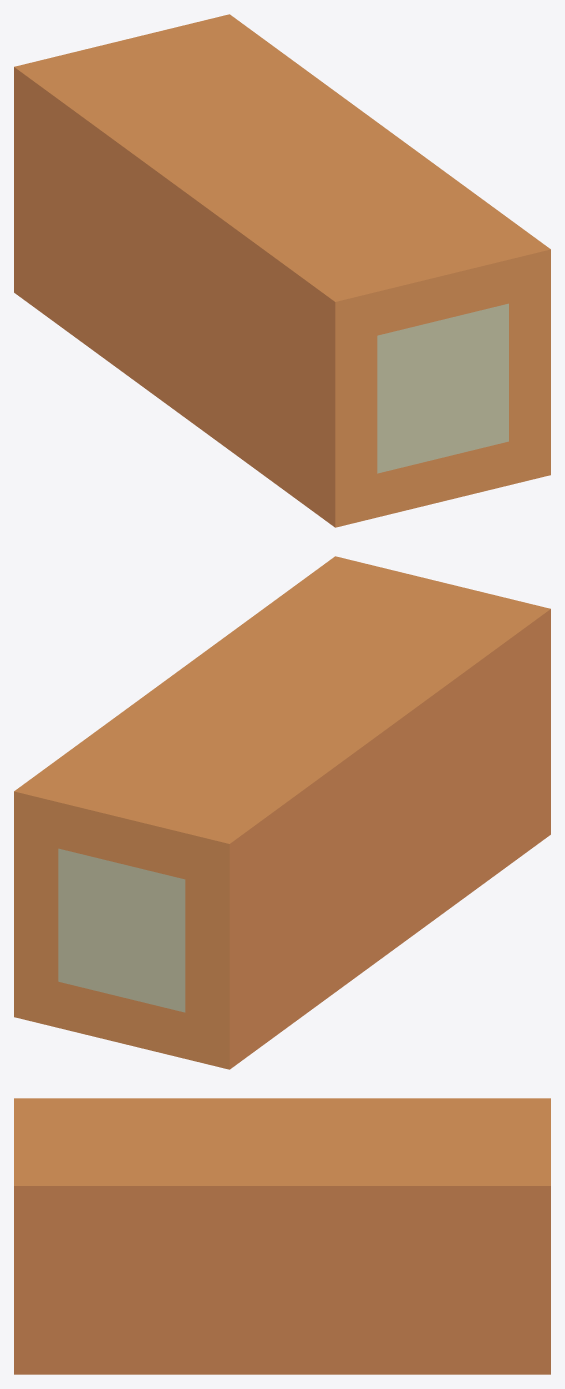
File: CreamTube.glb
The picture shows the model from 3 angles, top to bottom: view 1: azimuth 30°, elevation 25°; view 2: azimuth 150°, elevation 25°; view 3: azimuth 270°, elevation 25°; orthographic projection. The views are drawn at different scales.
Parts seen in each view (by area): view 1: SI_Food_Bakery_Creamtube; view 2: SI_Food_Bakery_Creamtube; view 3: SI_Food_Bakery_Creamtube.
Boxes of the visible parts, x1,y1,x2,y2 form: SI_Food_Bakery_Creamtube: [14, 14, 550, 527]; SI_Food_Bakery_Creamtube: [14, 556, 550, 1069]; SI_Food_Bakery_Creamtube: [14, 1098, 550, 1374].
Bounding box in the file's own units: 0.00126 × 0.00126 × 0.00325.
Materials: 1 (1 with a texture image).
